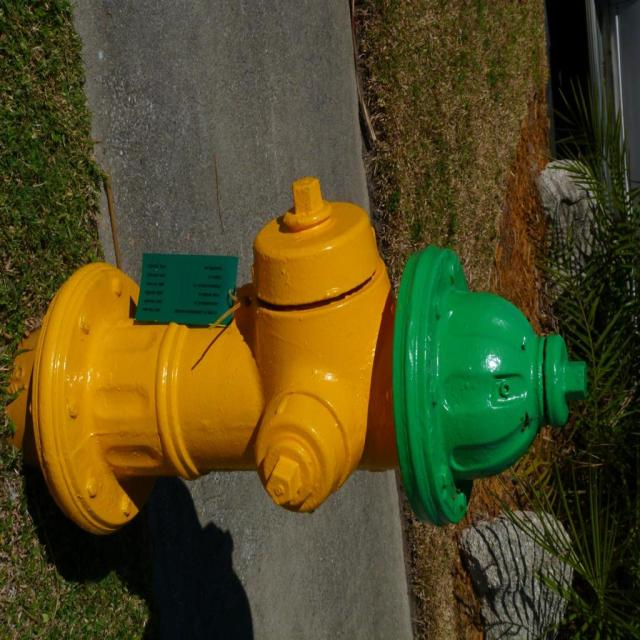fire_hydrant: (5, 174, 587, 540)
